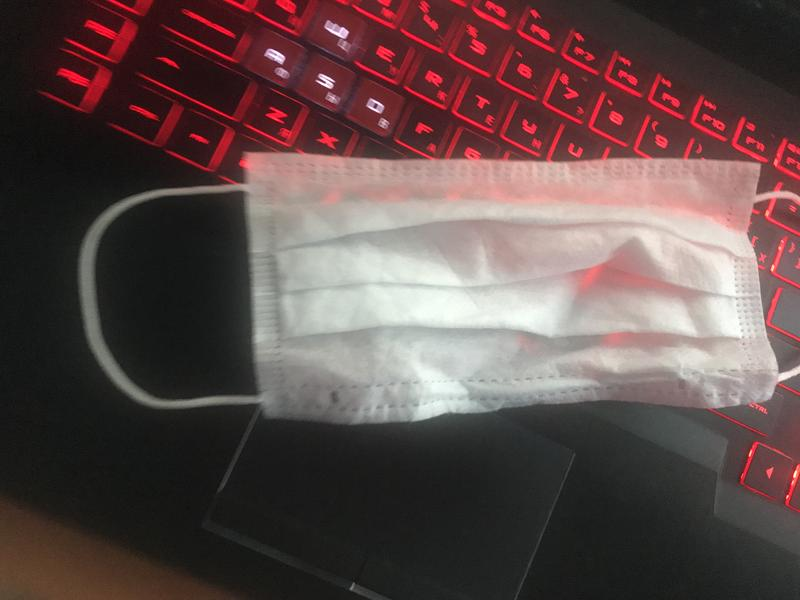medical_mask: (83, 152, 800, 416)
